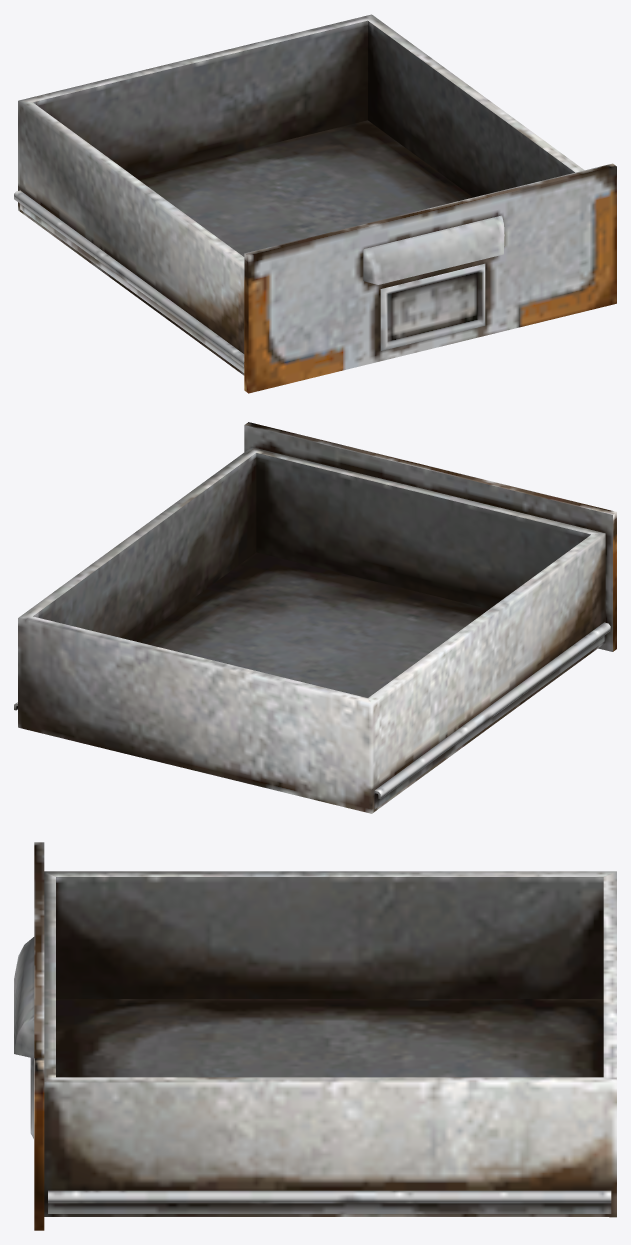
File: file_cabinet_theta_small_drawer_small.DAE
3 renders of one model, top to bottom at view 1: azimuth 30°, elevation 25°; view 2: azimuth 150°, elevation 25°; view 3: azimuth 270°, elevation 25°, orthographic. The views are drawn at different scales.
Visible parts, largest first — view 1: file_cabinet_theta_small_drawer_small; view 2: file_cabinet_theta_small_drawer_small; view 3: file_cabinet_theta_small_drawer_small.
Part boxes in pixels (x1,y1,x2,y2): file_cabinet_theta_small_drawer_small: [14, 14, 616, 393]; file_cabinet_theta_small_drawer_small: [14, 422, 616, 813]; file_cabinet_theta_small_drawer_small: [14, 842, 616, 1230].
Bounding box in the file's own units: 0.6291 × 0.2238 × 0.7279.
